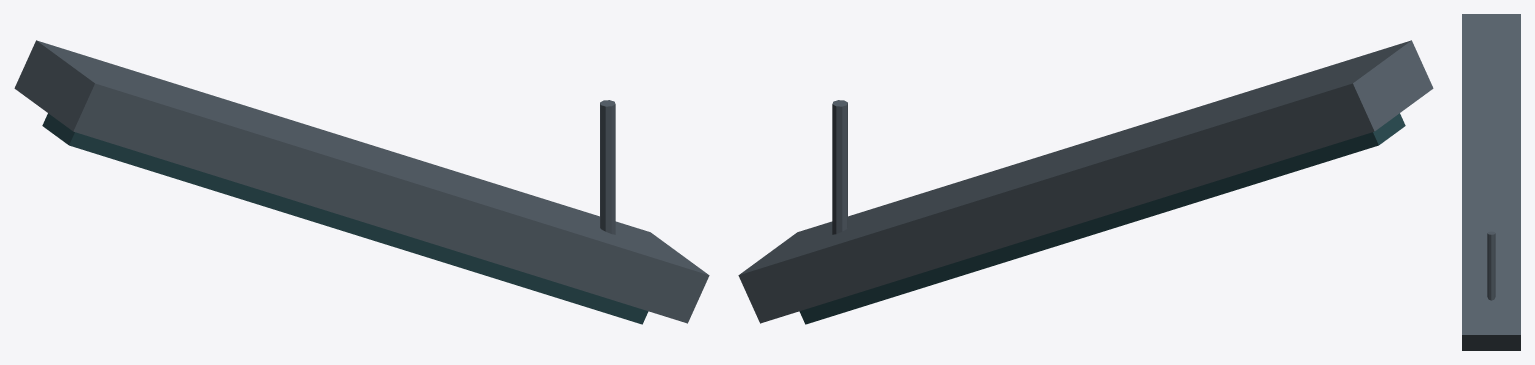
The model's file is lamp_broken.glb.
3 renders of one model, left to right at view 1: azimuth 30°, elevation 25°; view 2: azimuth 150°, elevation 25°; view 3: azimuth 270°, elevation 25°, orthographic. The views are drawn at different scales.
Visible parts, largest first — view 1: lamp_broken; view 2: lamp_broken; view 3: lamp_broken.
Part boxes in pixels (box(x1,y1,x2,y2)): lamp_broken: box(14, 40, 709, 324); lamp_broken: box(738, 40, 1433, 324); lamp_broken: box(1462, 14, 1520, 350).
Size of the model in its own units: 1.37 by 0.8043 by 0.22.
